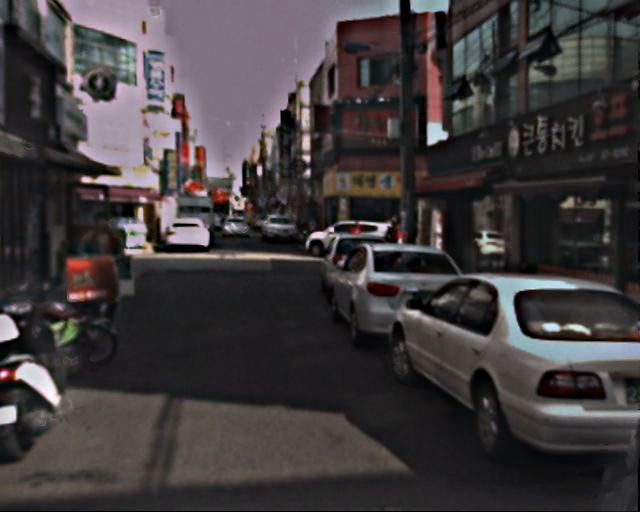person: (76, 212, 137, 337), (347, 219, 365, 262), (387, 221, 404, 262)
